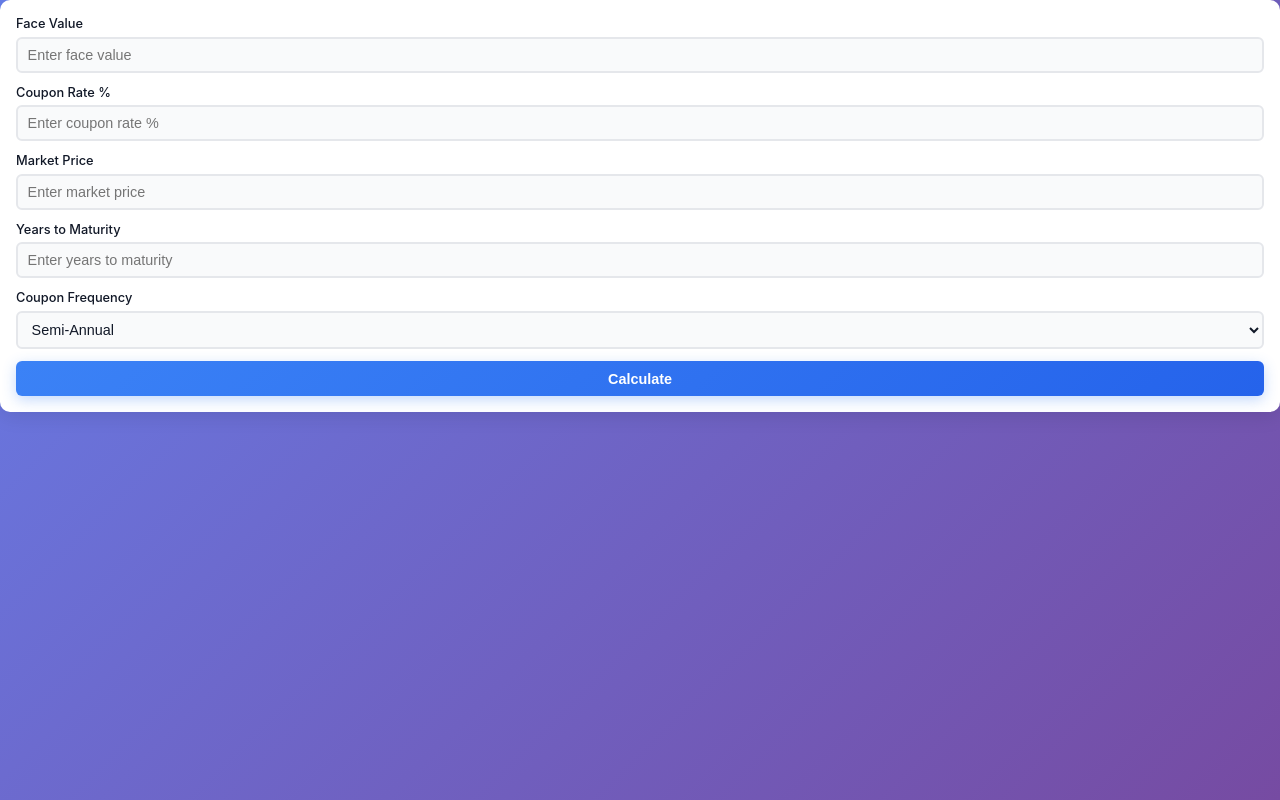
Test case: BondForm Component › UI States › FR-UI-004: should display validation errors visibly
Click the button "Calculate" at coordinates (640, 379), box [16,361,1264,396]
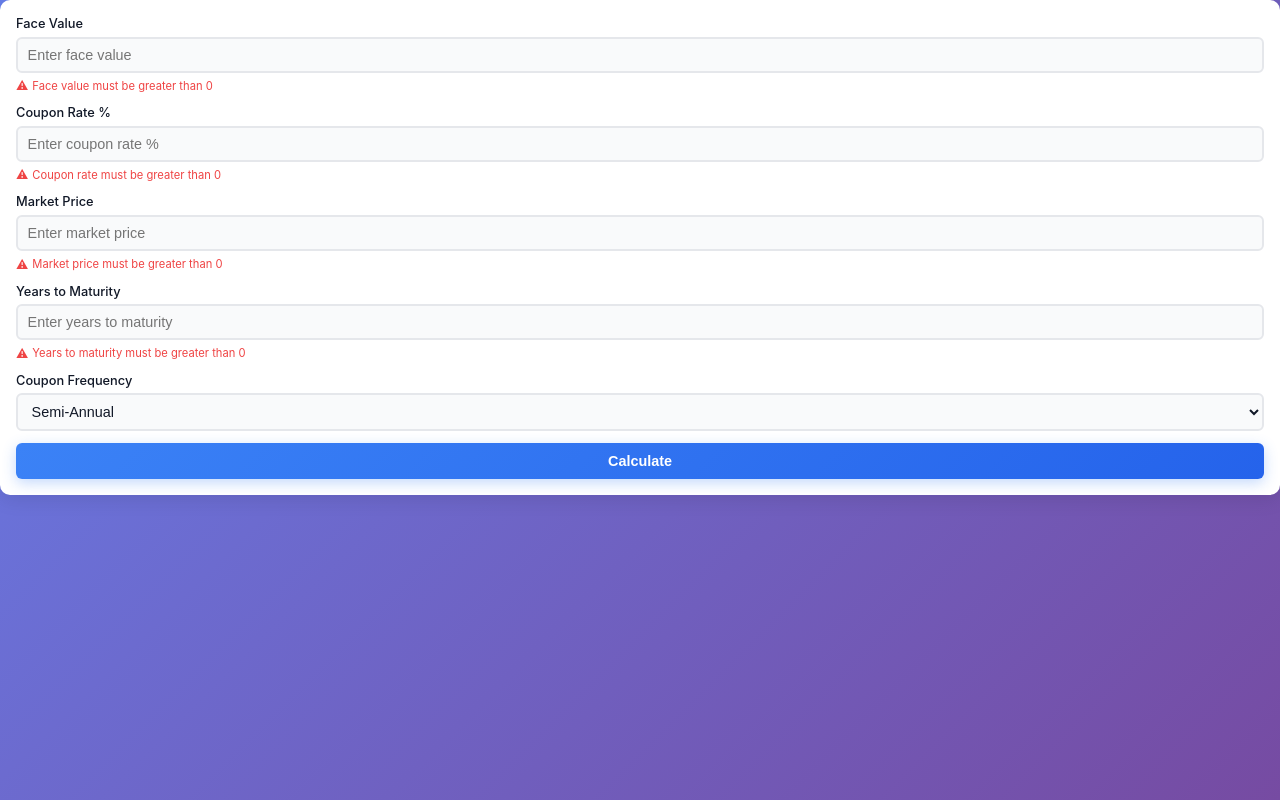
Expected: the text "Face value must be greater than 0" is shown, [32,79,213,93]
Expected: the text "Coupon rate must be greater than 0" is shown, [32,168,221,182]
Expected: the text "Market price must be greater than 0" is shown, [32,257,222,271]
